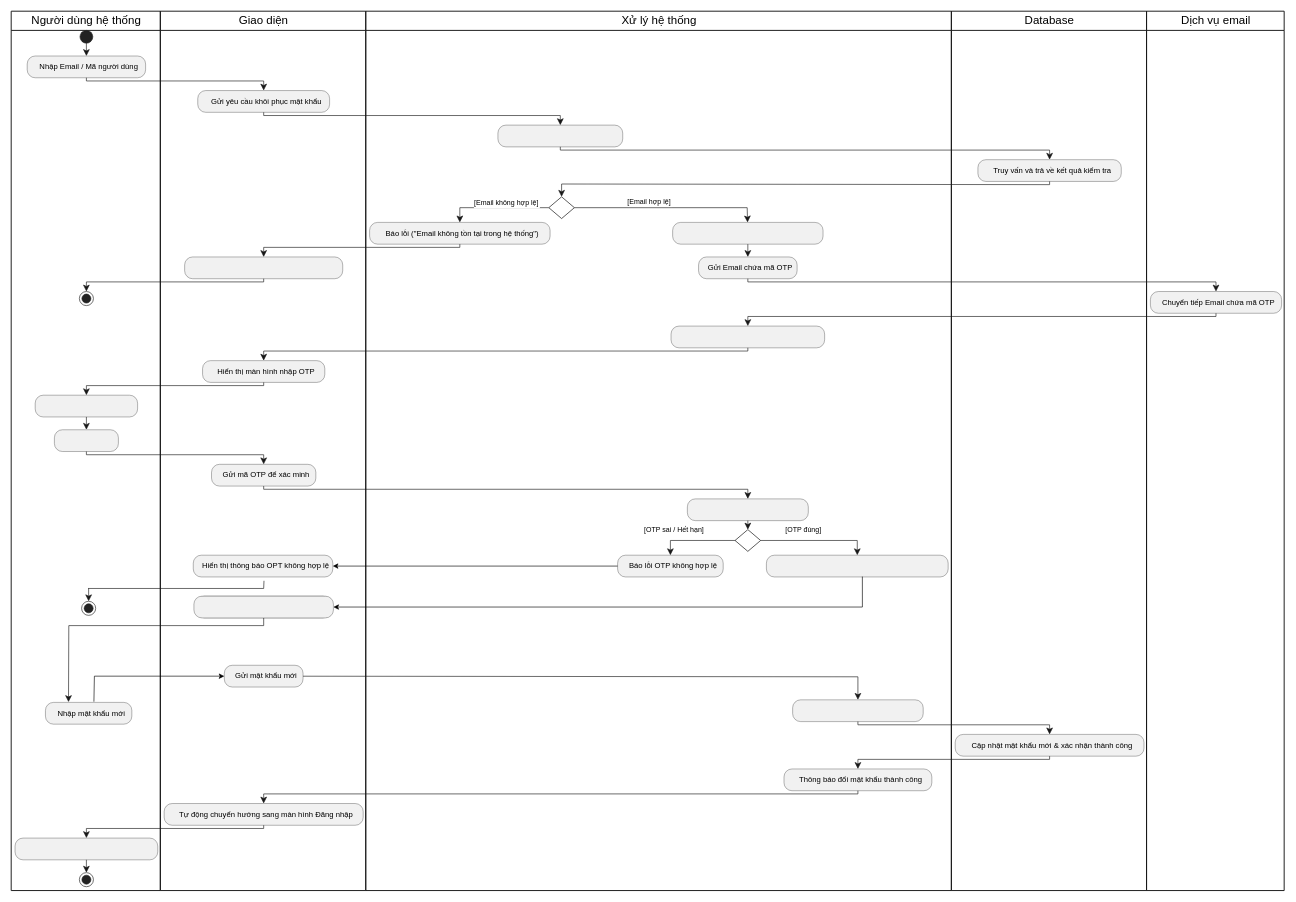
The diagram is 1296 pixels wide and 902 high, and some of its shapes have lost their labels. The centre of each missing label's shape, as x and y in pixels:
Chuyển sang màn hình Đăng nhập: (x=86, y=849)
Hiển thị form nhập mật khẩu mới: (x=263, y=607)
Hiển thị thông báo email không hợp lệ: (x=263, y=268)
Kiểm tra Email trong hệ thống: (x=560, y=136)
Kiểm tra tính hợp lệ của OTP: (x=747, y=509)
Nhận mã OTP qua Email: (x=86, y=406)
Nhập mã OTP: (x=86, y=440)
Tạo mã OTP (có hạn ngạch thời gian): (x=747, y=233)
Xác minh thành công, cho phép đổi mật khẩu: (x=857, y=566)
Yêu cầu cập nhật mật khẩu mới: (x=857, y=710)
Yêu cầu hiển thị màn hình nhập OTP: (x=748, y=337)
